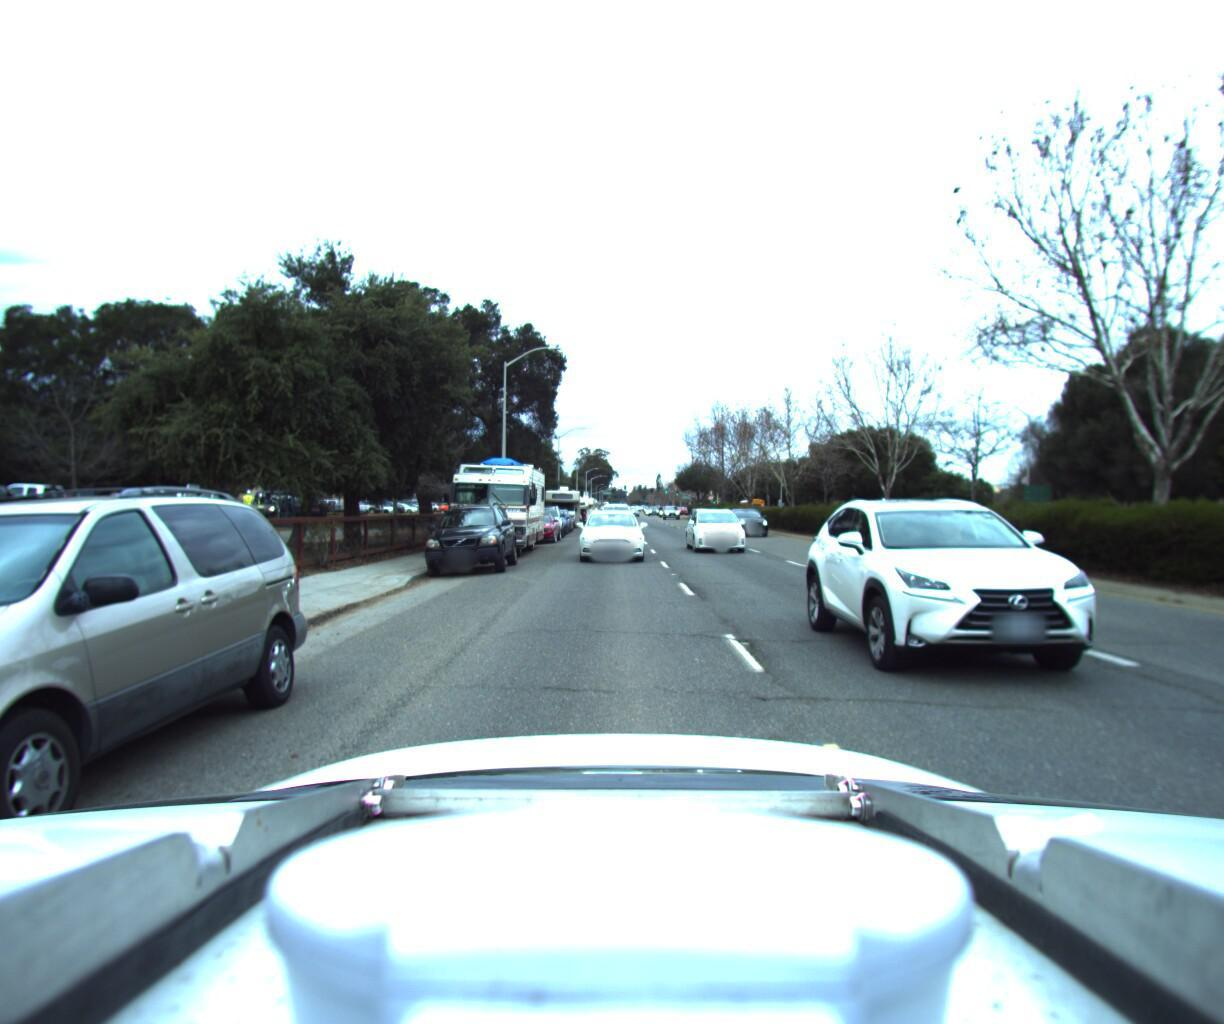car: (0, 450, 331, 983), (828, 485, 1224, 734), (414, 489, 518, 573), (574, 501, 642, 560), (684, 500, 754, 551), (509, 502, 561, 537), (724, 498, 773, 531), (525, 494, 564, 532), (598, 498, 633, 527), (536, 498, 569, 527)
other_vehicle: (441, 437, 545, 555), (540, 474, 580, 521), (563, 485, 589, 517)
